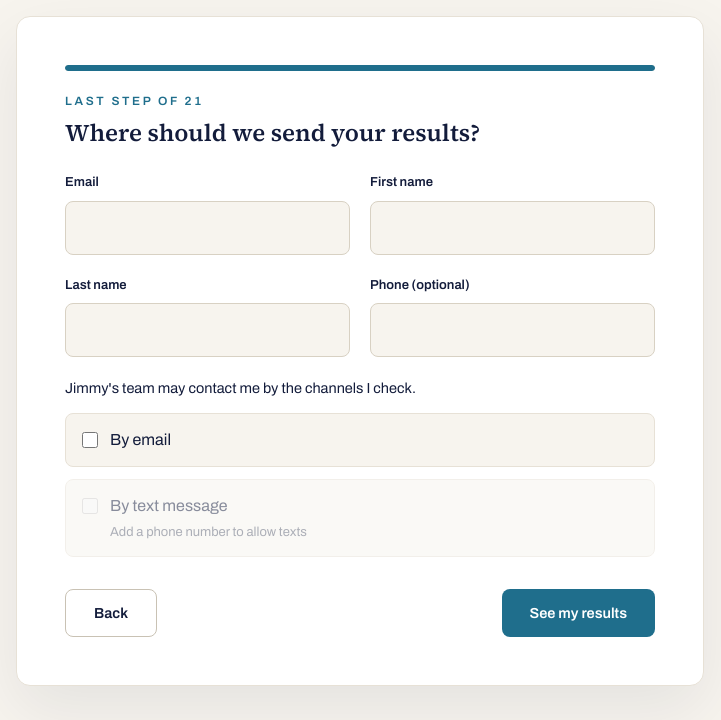
Scenario: AssessmentQuizClient results › shows the failure line when the CRM is unavailable
This screenshot has width=721, height=720.
Expected: the text "Last step of 21" is shown, [65,94,204,108]
In the field labelled "Email": (208, 228) [65,201,350,255], type "vet@example.com"
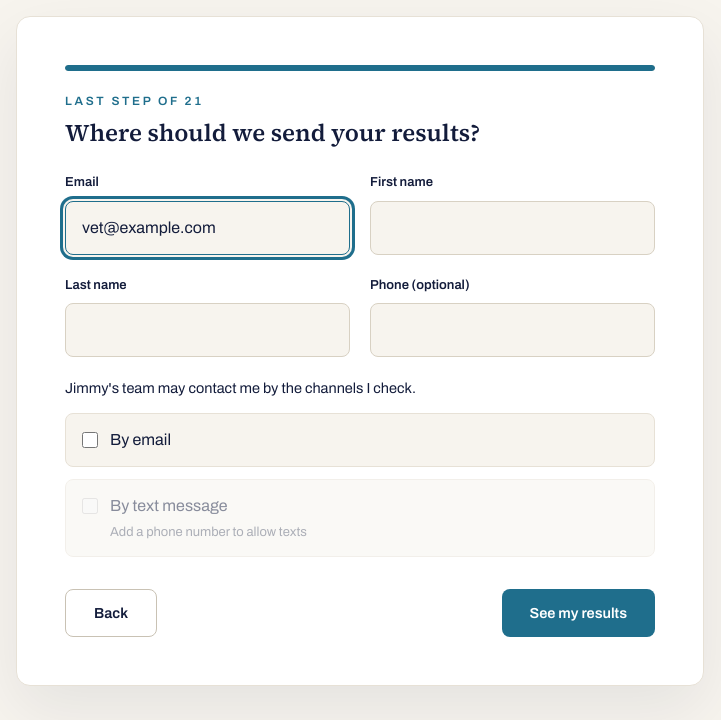
In the field labelled "First name": (512, 228) [370,201,655,255], type "Pat"
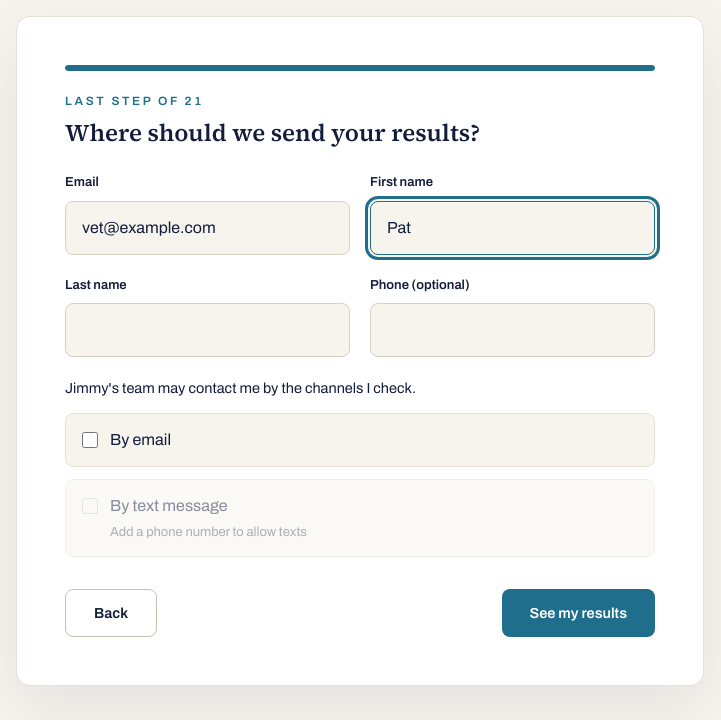
In the field labelled "Last name": (208, 330) [65,303,350,357], type "Rivera"
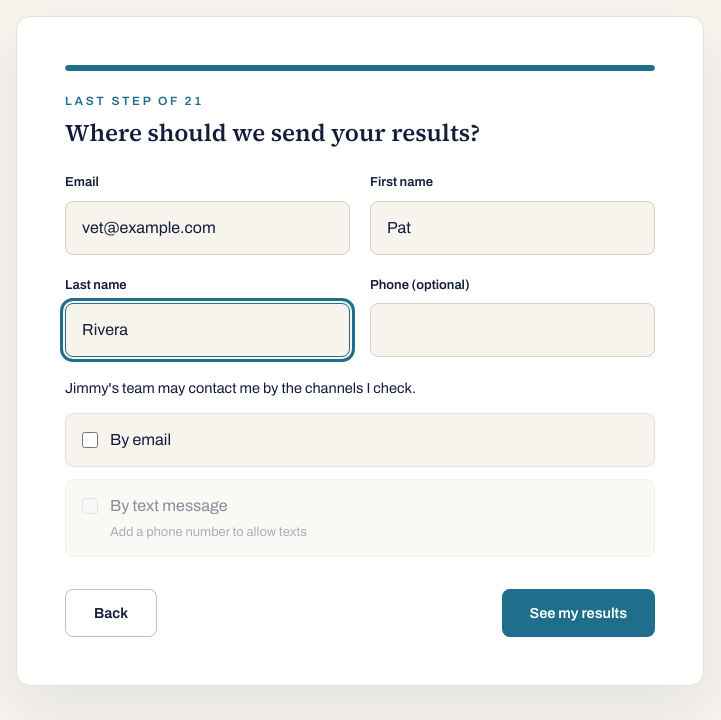
Click the checkbox labelled "By email": click(90, 440) [82,432,98,448]
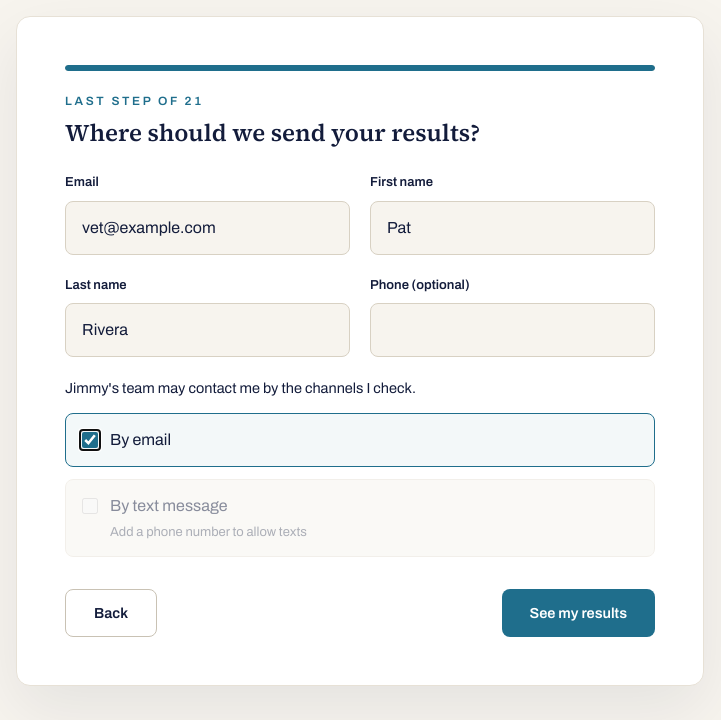
Click the button "See my results": click(578, 613) [502,589,655,637]
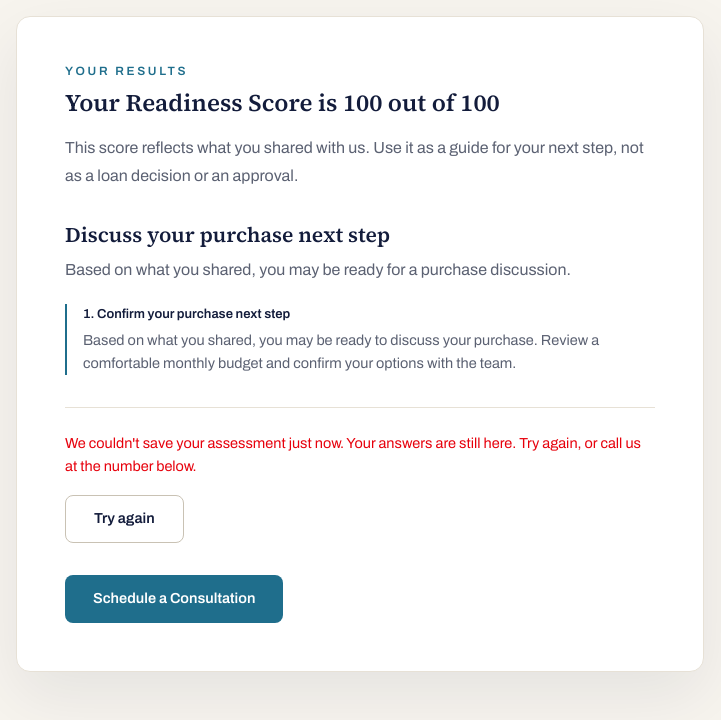
Now the text "We couldn't save your assessment just now. Your answers are still here. Try again, or call us at the number below." is shown, box [65,435,641,474]
Now the button "Try again" is shown, box [65,495,184,543]
